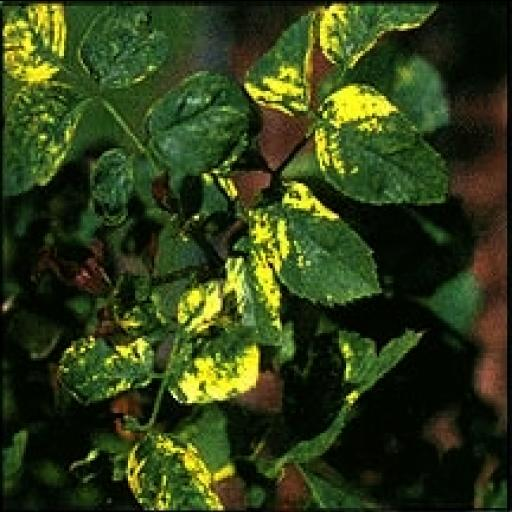disease_tomato: (316, 84, 458, 202), (262, 180, 386, 300), (150, 273, 260, 405), (144, 70, 248, 175), (5, 80, 85, 202), (55, 330, 161, 414), (244, 0, 320, 117), (74, 10, 174, 95), (122, 432, 230, 510), (90, 142, 140, 228)
